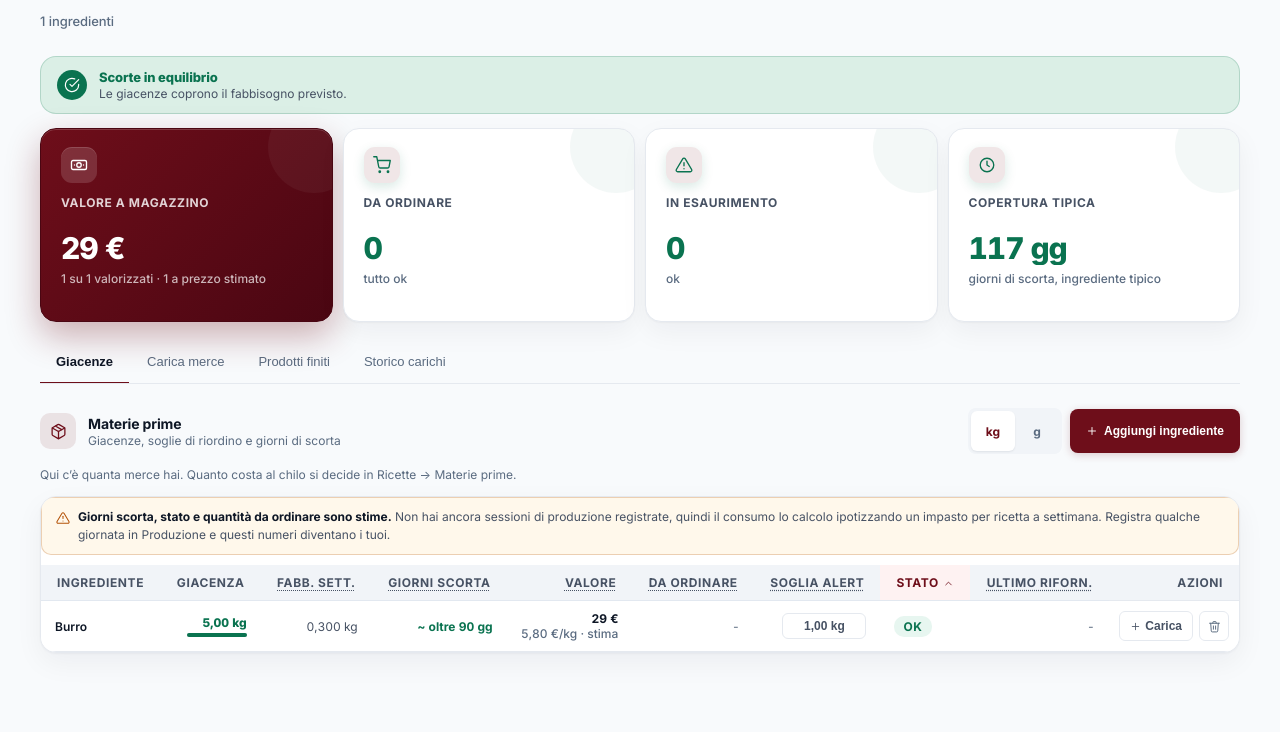
Test case: storico carichi › le righe sono ordinate dalla piu recente, non come sono arrivate
Click the tab "Storico carichi".
click(405, 362)  # box 348,340 -> 462,384
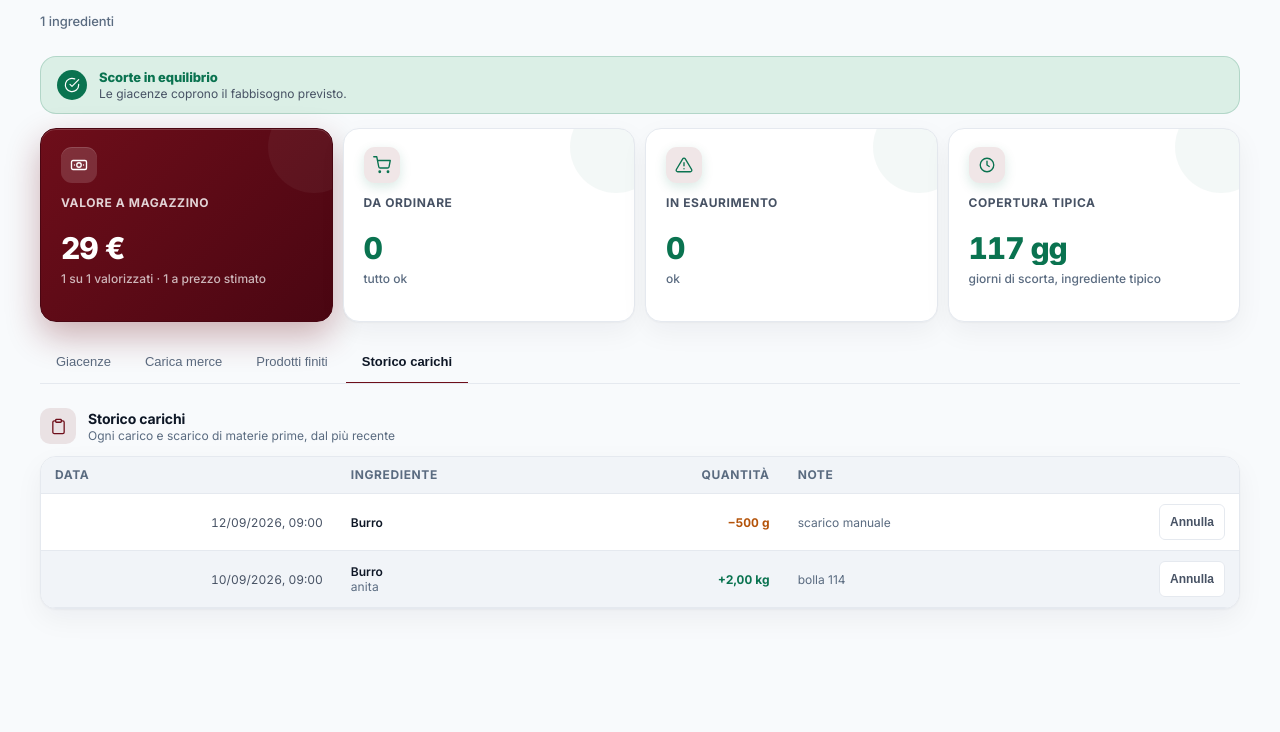
Expected: the text "ingrediente" is shown, 968,271 -> 1161,286
Result: the row "12/09/2026, 09:00 Burro −500 g scarico manuale Annulla" is shown at 41,494 -> 1239,551
Result: the row "10/09/2026, 09:00 Burro anita +2,00 kg bolla 114 Annulla" is shown at 41,551 -> 1239,608
